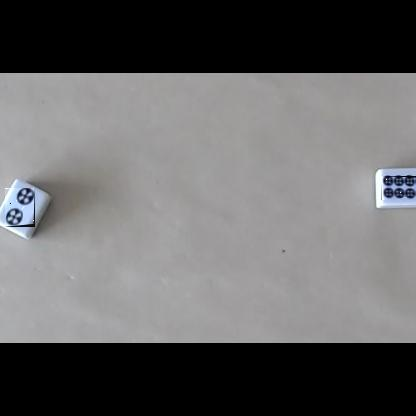2p: (5, 188, 35, 227)
8p: (381, 176, 416, 200)
